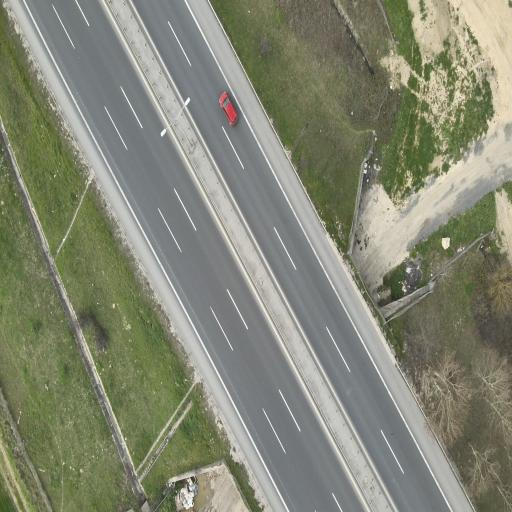car: (220, 92, 238, 127)
